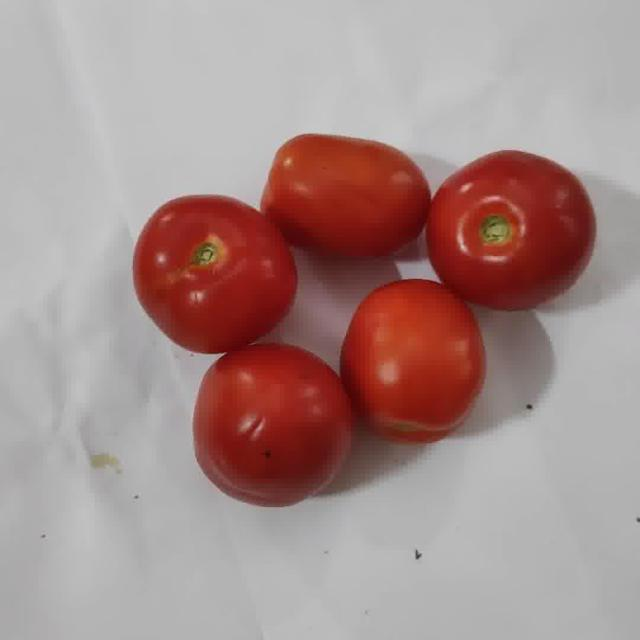Tomato: (427, 151, 596, 310), (193, 344, 352, 506), (133, 196, 296, 353), (341, 280, 483, 443), (260, 134, 430, 257)
